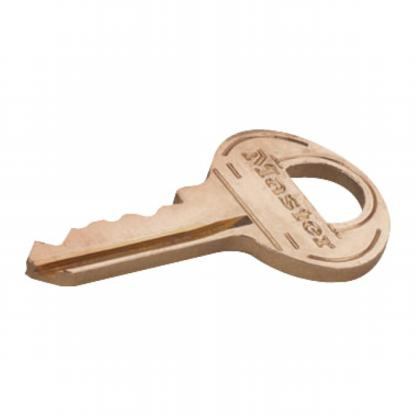key: (21, 129, 393, 285)
